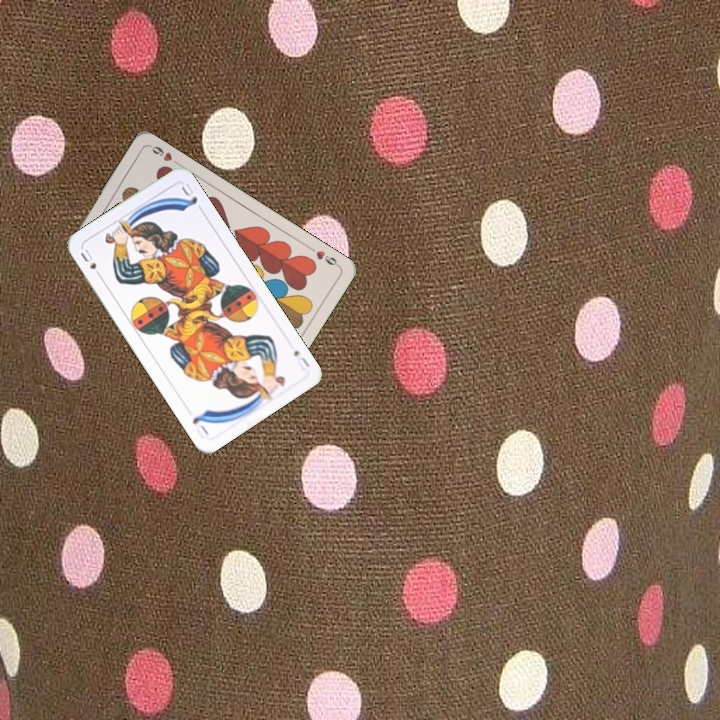H9: (306, 243, 342, 269)
SU: (76, 245, 105, 281), (289, 346, 312, 373)
